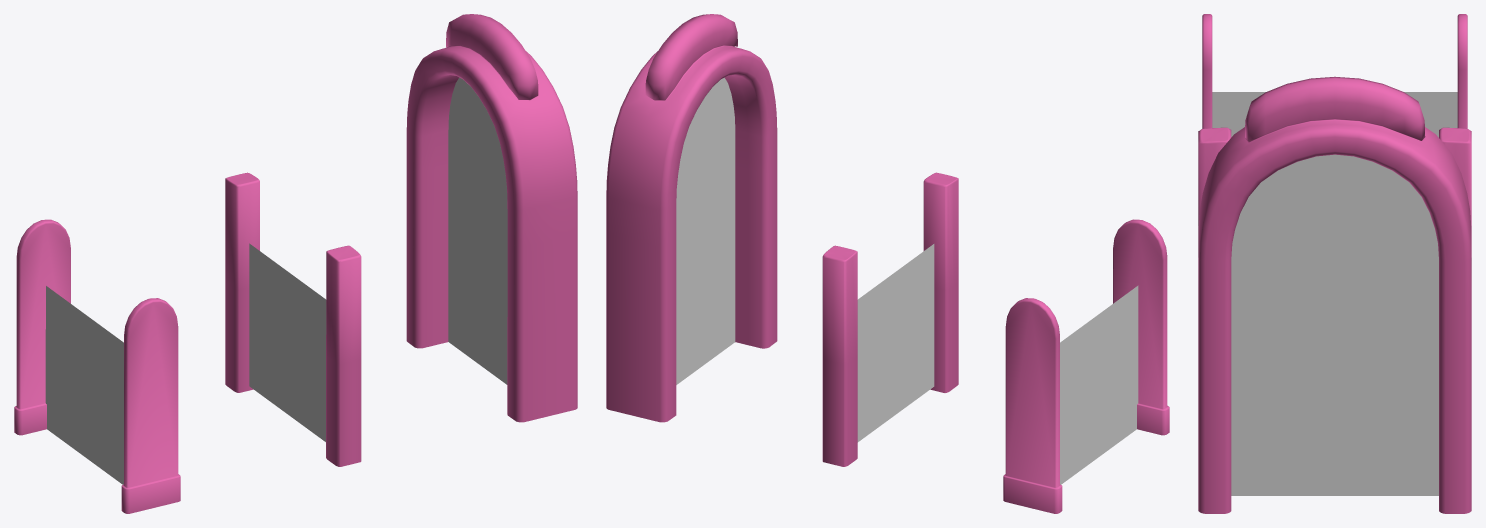
The model's file is colorDoor 1.fbx.
3 renders of one model, left to right at view 1: azimuth 30°, elevation 25°; view 2: azimuth 150°, elevation 25°; view 3: azimuth 270°, elevation 25°, orthographic. The views are drawn at different scales.
Visible parts, largest first — view 1: ColorDoor.006, ColorDoor.025, ColorDoor.026, ColorDoor.022, Plane, Plane.001; view 2: ColorDoor.006, ColorDoor.025, ColorDoor.026, ColorDoor.022, Plane, Plane.001; view 3: ColorDoor.026, ColorDoor.006, Plane, ColorDoor.022, ColorDoor.025.
Boxes of the visible parts, bbox=[...] form: ColorDoor.006: bbox=[406, 14, 577, 422]; ColorDoor.025: bbox=[14, 219, 180, 513]; ColorDoor.026: bbox=[448, 77, 507, 384]; ColorDoor.022: bbox=[225, 172, 361, 466]; Plane: bbox=[45, 286, 123, 484]; Plane.001: bbox=[249, 243, 326, 441]; ColorDoor.006: bbox=[606, 14, 777, 422]; ColorDoor.025: bbox=[1003, 219, 1169, 513]; ColorDoor.026: bbox=[676, 77, 735, 384]; ColorDoor.022: bbox=[822, 172, 958, 466]; Plane: bbox=[1060, 285, 1138, 484]; Plane.001: bbox=[857, 244, 934, 442]; ColorDoor.026: bbox=[1231, 154, 1438, 495]; ColorDoor.006: bbox=[1198, 76, 1471, 513]; Plane: bbox=[1212, 92, 1457, 137]; ColorDoor.022: bbox=[1198, 127, 1471, 257]; ColorDoor.025: bbox=[1202, 14, 1467, 128].
Size of the model in its own units: 3.42 by 2.53 by 1.5.
